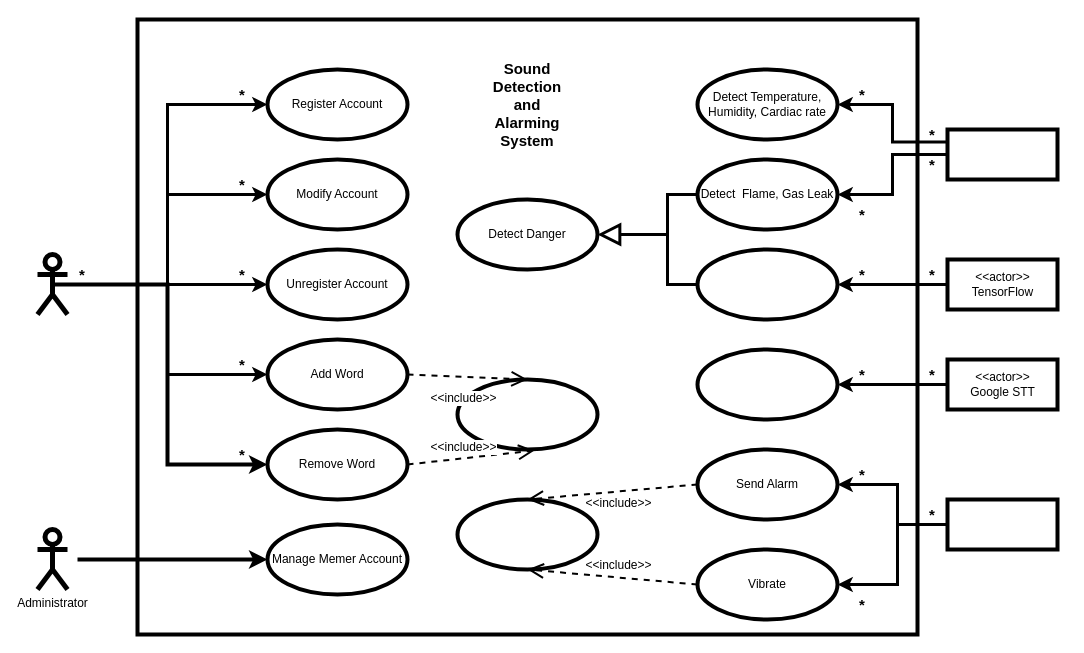
Image size: 1084x653. Some labels were removed from this diagram. The box of each missing label's shape, as (x1, y1, x2, y2) in pixels:
<<actor>> Arduino: (945, 127, 1059, 181)
<<actor>> Device: (945, 497, 1059, 551)
Detect Siren & Alert: (695, 247, 839, 321)
Detect Specific Word: (695, 347, 839, 421)
Handle Detection: (455, 497, 599, 571)
Log In: (455, 377, 599, 451)
User: (34, 252, 70, 316)
